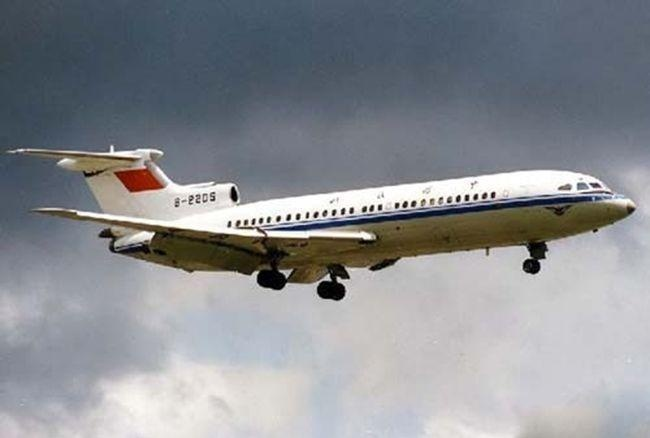airplane: (5, 128, 644, 301)
